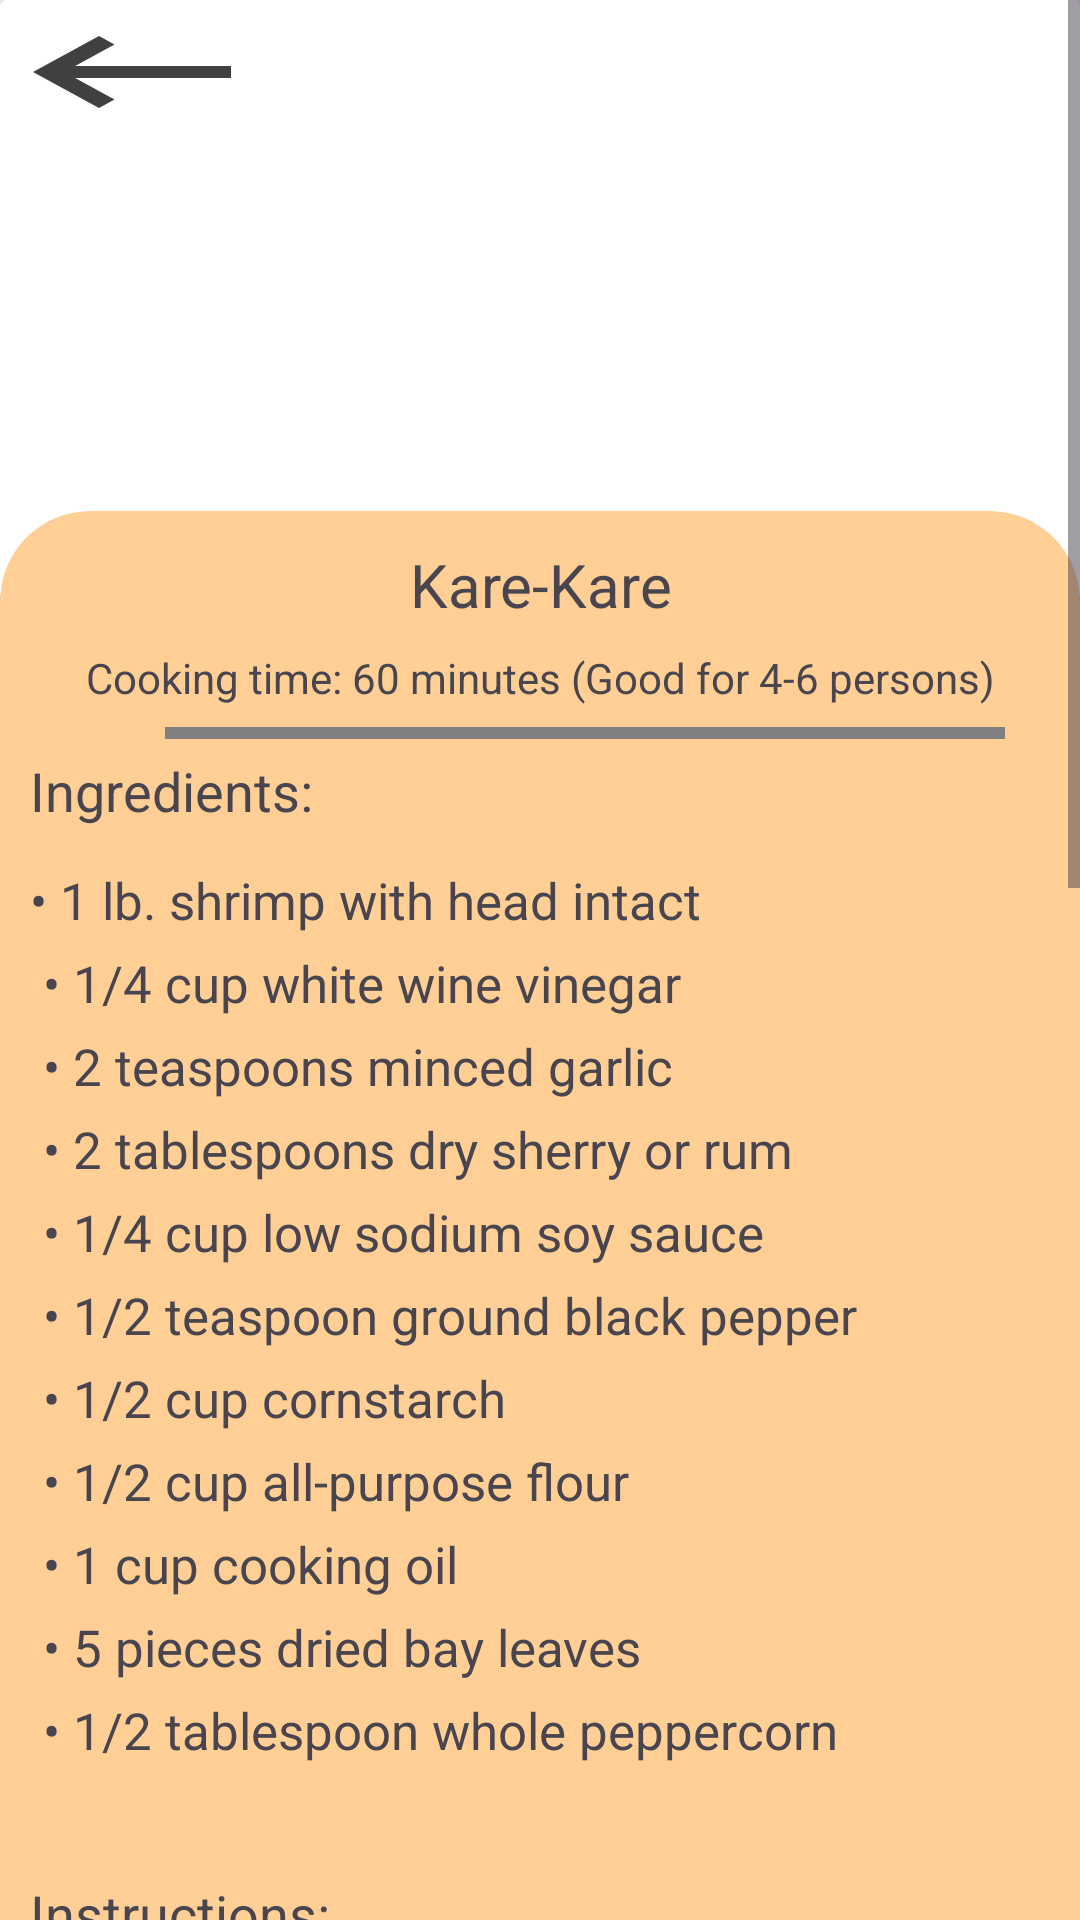

Locate icon controls on the screen. Image size 1080 x 1920, boxes as [x1=x1, y1=y1, x2=x2, y2=y2].
keyboard backspace: [x1=0, y1=0, x2=231, y2=108]
